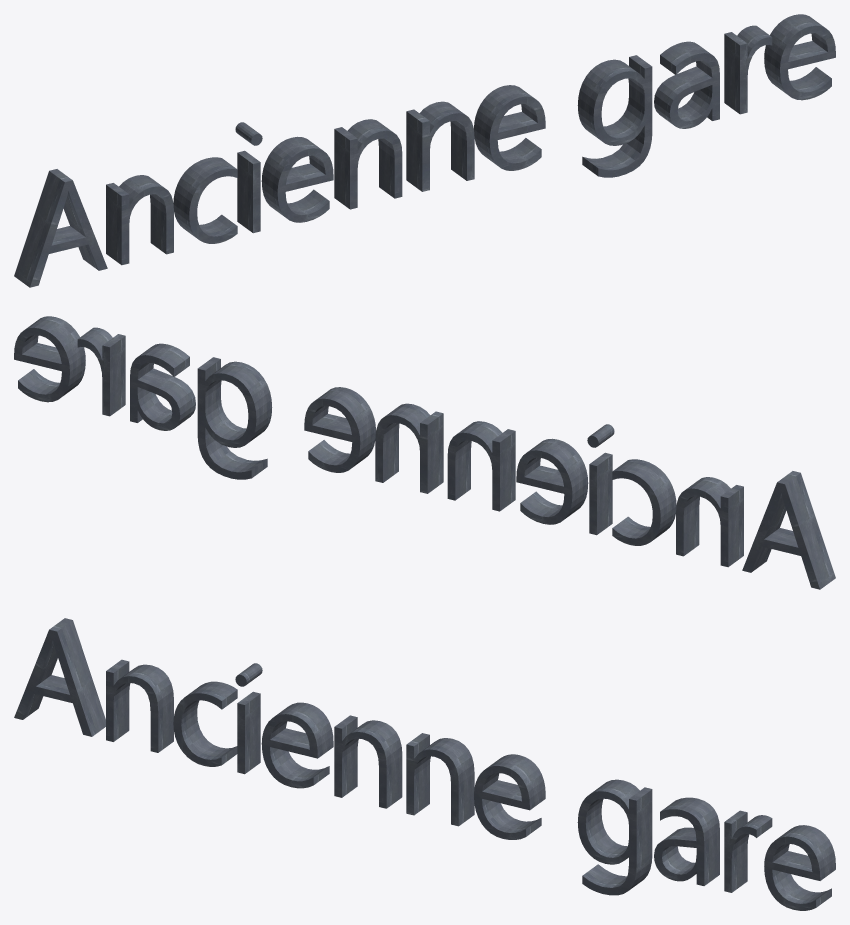
File: Ancienne gare.fbx
3 renders of one model, top to bottom at view 1: azimuth 30°, elevation 25°; view 2: azimuth 150°, elevation 25°; view 3: azimuth 330°, elevation 25°, orthographic.
Visible parts, largest first — view 1: Métal - Fer; view 2: Métal - Fer; view 3: Métal - Fer.
Part boxes in pixels (<box>): Métal - Fer: <box>14,14,835,287</box>; Métal - Fer: <box>14,316,835,589</box>; Métal - Fer: <box>14,618,835,910</box>.
Bounding box in the file's own units: 884 × 30 × 137.
1 material, 1 textured.
